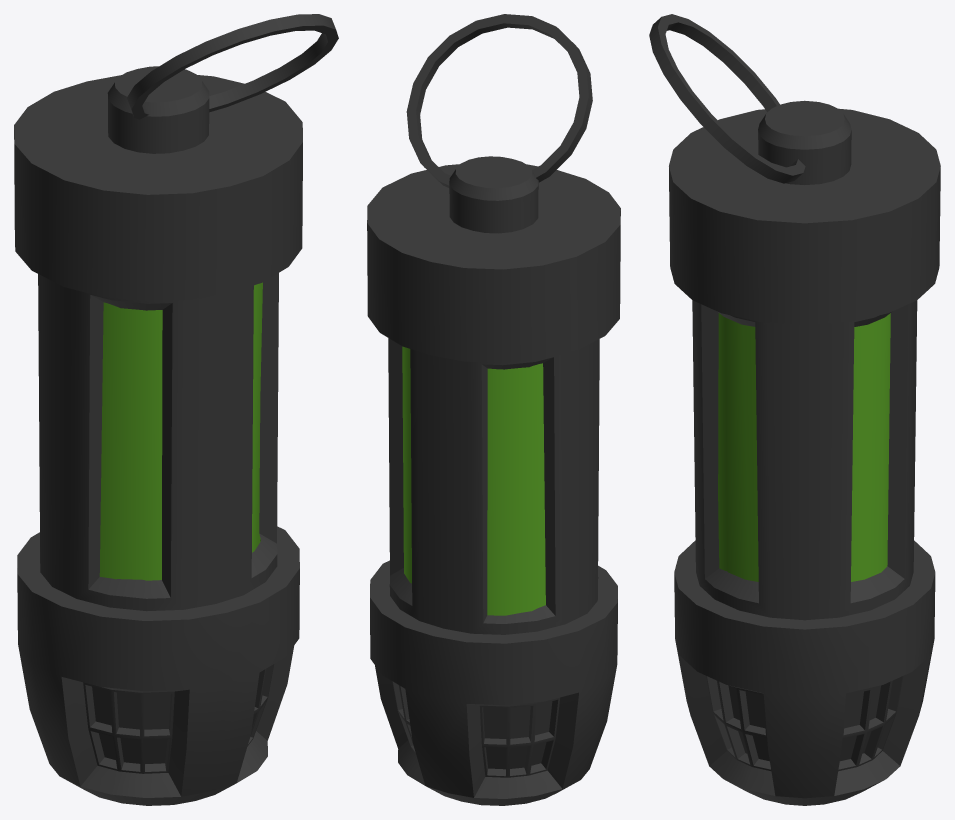
File: AcidGrenade.fbx
3 renders of one model, left to right at view 1: azimuth 30°, elevation 25°; view 2: azimuth 150°, elevation 25°; view 3: azimuth 270°, elevation 25°, orthographic. The views are drawn at different scales.
Visible parts, largest first — view 1: polySurface100; view 2: polySurface100; view 3: polySurface100.
Part boxes in pixels (bbox=[...]): polySurface100: bbox=[14, 14, 338, 805]; polySurface100: bbox=[367, 14, 620, 805]; polySurface100: bbox=[649, 14, 940, 805].
Bounding box in the file's own units: 25.23 × 75.25 × 26.13.
